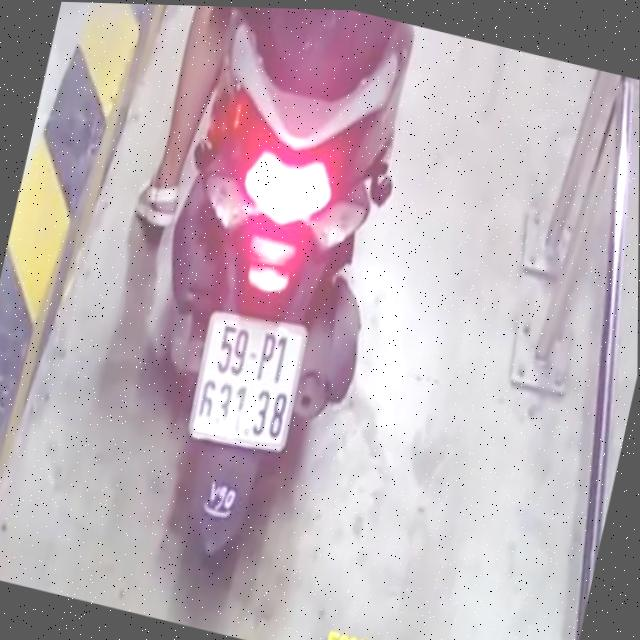motorcycle: (86, 3, 458, 614)
plate: (175, 299, 323, 467)
